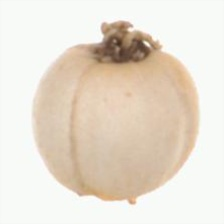L5: (71, 59, 192, 205), (72, 19, 164, 67)
L6: (28, 21, 202, 205)
